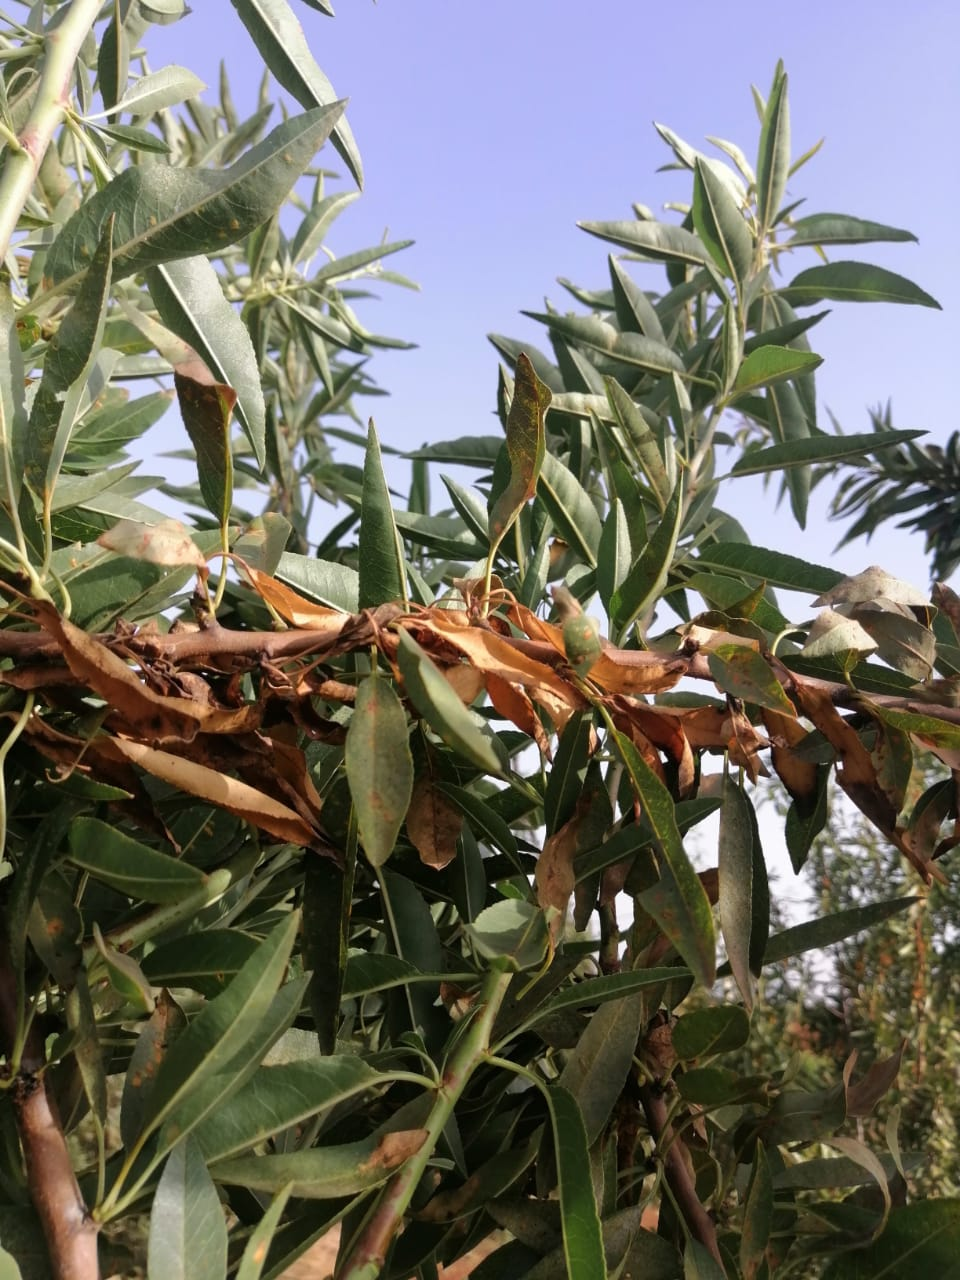scolytes: (13, 572, 781, 821)
